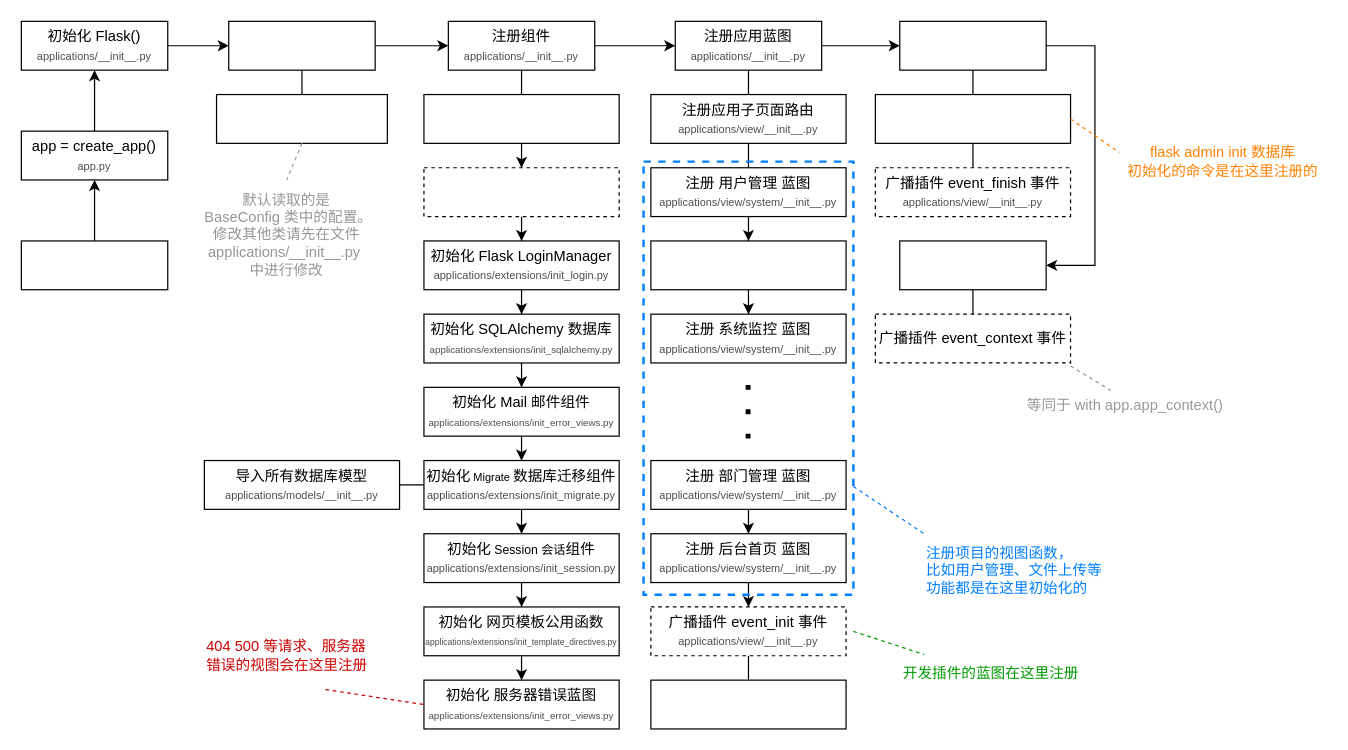
This 1348x750 diagram has some shape labels left out. Here are the shapes that lost their labels. From the top down, the centre of each, then its label:
the point at 301,45: 载入配置 applications/__init__.py
the point at 972,45: 注册命令 applications/__init__.py
the point at 301,118: 读取 BaseConfig 配置来自 applications/config.py
the point at 521,118: 初始化插件 applications/extensions/init_plugins.py
the point at 972,118: 注册 应用 cli 命令 applications/view/__init__.py
the point at 521,192: 广播插件 event_begin 事件 applications/extensions/init_plugins.py
the point at 94,265: 初始化开始
the point at 748,265: 注册 文件上传 蓝图 applications/view/system/__init__.py
the point at 972,265: 初始化完成
the point at 748,704: 注册 启用插件所提供的 蓝图 plugins/*/__init__.py
